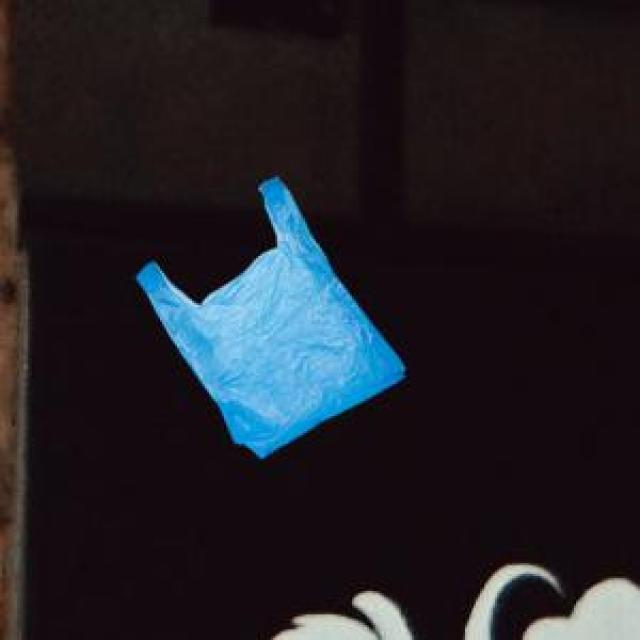waste: (138, 178, 405, 457)
